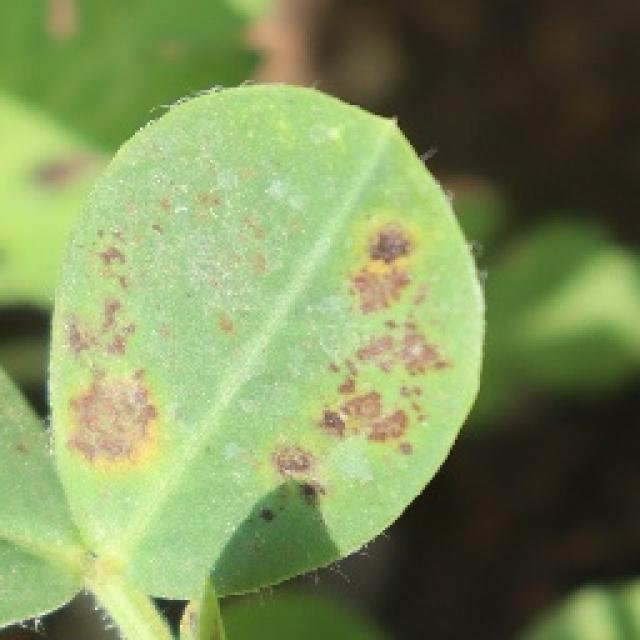Yellowish: (35, 150, 483, 566)
